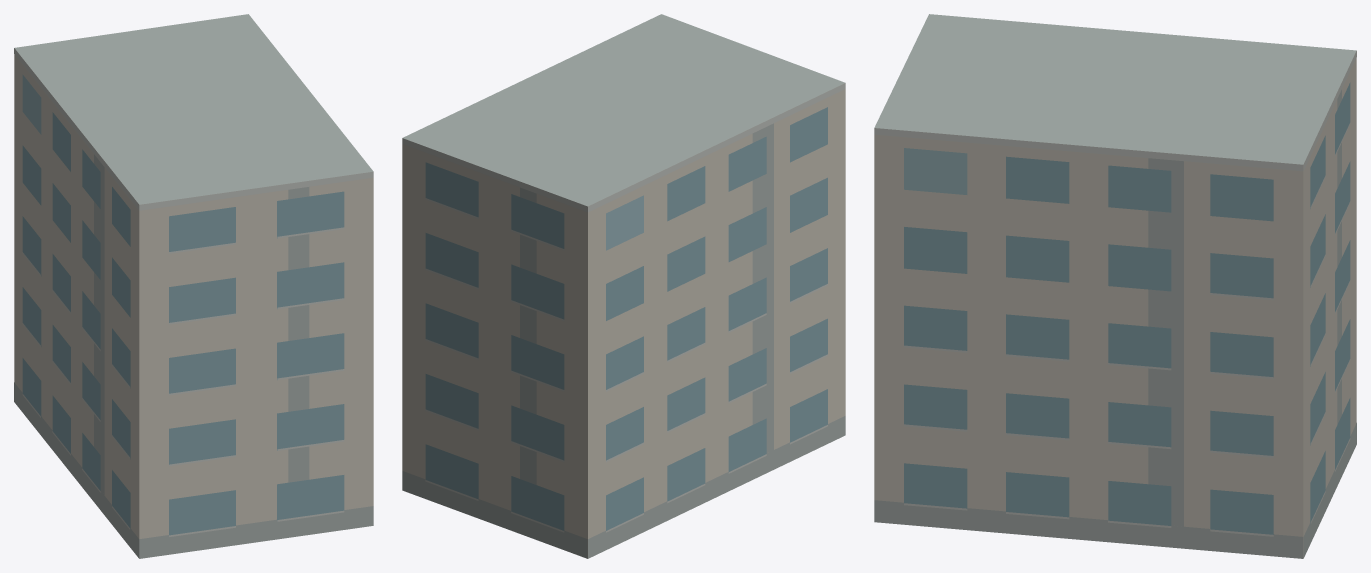
The model's file is survey-upis-32885847.glb.
3 views of the same model, side by side, from view 1: azimuth 30°, elevation 25°; view 2: azimuth 150°, elevation 25°; view 3: azimuth 270°, elevation 25° (orthographic). The views are drawn at different scales.
Parts seen in each view (by area): view 1: survey-upis-32885847.tmp; view 2: survey-upis-32885847.tmp; view 3: survey-upis-32885847.tmp.
Boxes of the visible parts, x1,y1,x2,y2 form: survey-upis-32885847.tmp: [14, 14, 373, 558]; survey-upis-32885847.tmp: [402, 14, 845, 558]; survey-upis-32885847.tmp: [874, 14, 1356, 558].
Size of the model in its own units: 11.74 by 14.3 by 15.87.
